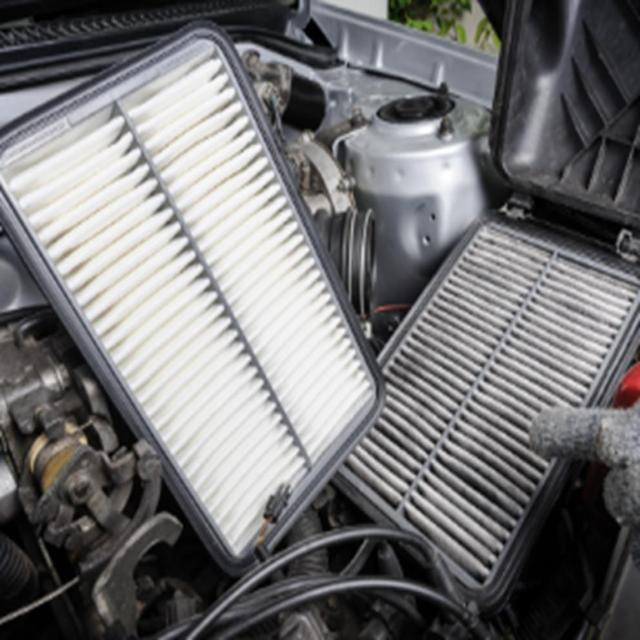air_filter: (0, 24, 389, 571), (351, 210, 639, 612)
